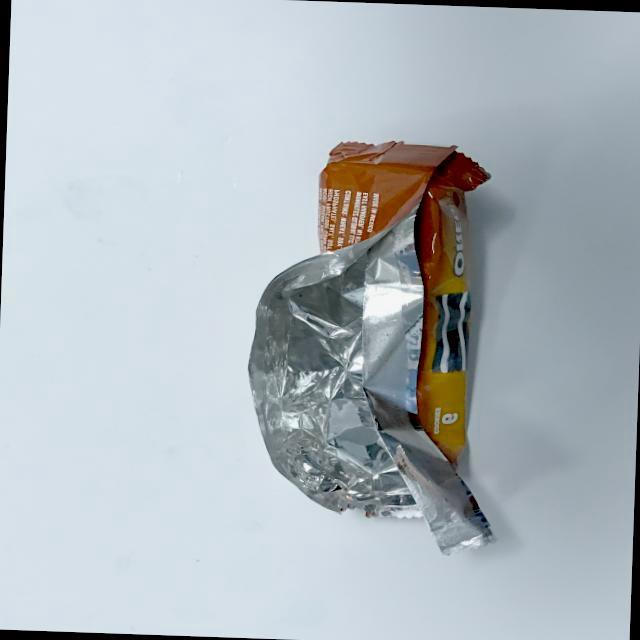plastic: (229, 120, 556, 560)
